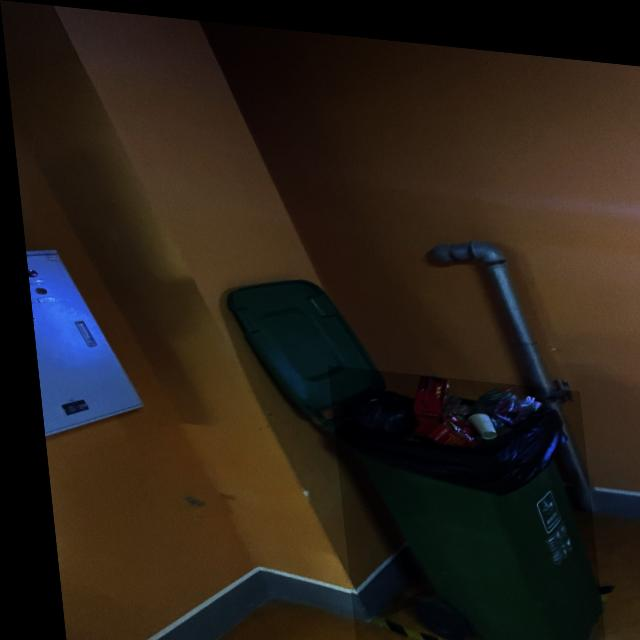overflow: (320, 359, 595, 640)
